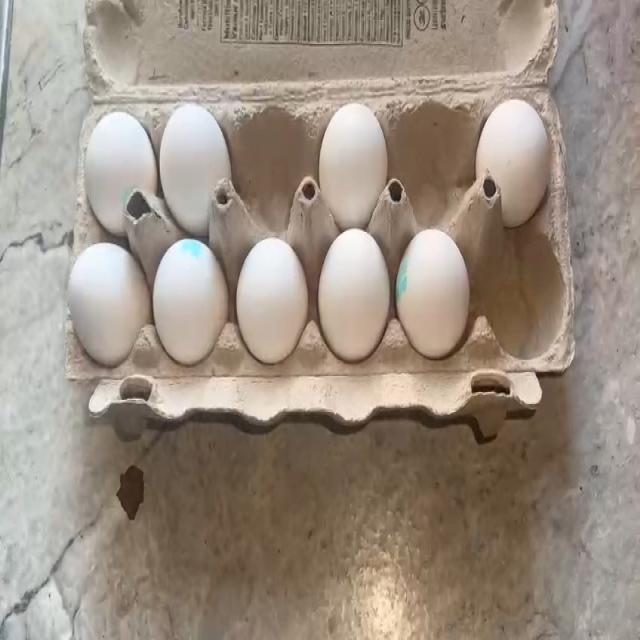Egg: (244, 246, 309, 352), (398, 236, 466, 336), (324, 102, 388, 208), (161, 249, 226, 353), (70, 250, 132, 358), (321, 242, 385, 346), (470, 95, 542, 181), (162, 111, 216, 199), (90, 117, 140, 198)
